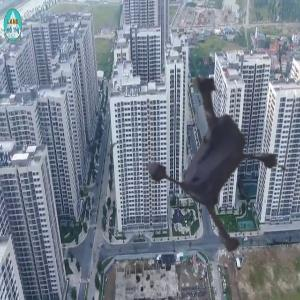drone: (105, 44, 300, 239)
